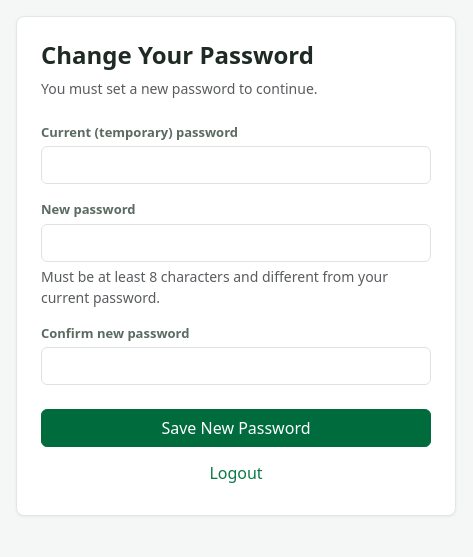
Scenario: ChangePassword (UI-02) › shows a server-side field error under Current Password (e.g. wrong current password)
Step 1. Type "WrongPass1!" into the password field labelled "Current (temporary) password" → (236, 165), box [41, 146, 431, 184]
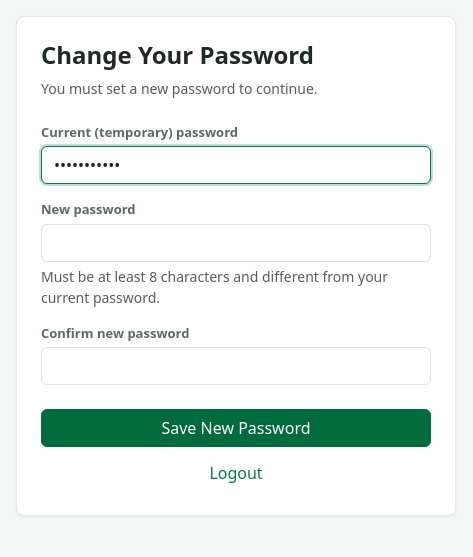
Step 2. Type "BrandNewPass1!" into the password field labelled "New password" → (236, 243), box [41, 224, 431, 262]
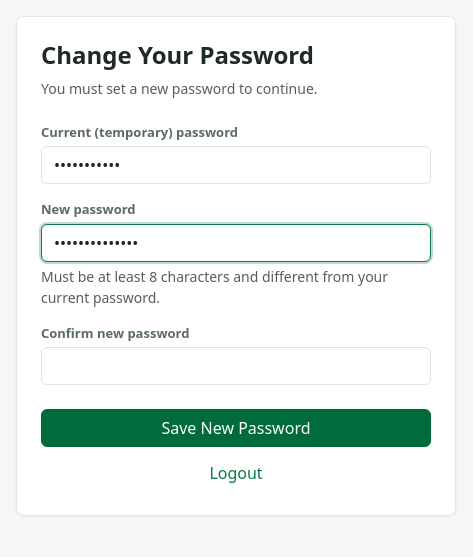
Step 3. Type "BrandNewPass1!" into the password field labelled "Confirm new password" → (236, 366), box [41, 347, 431, 385]
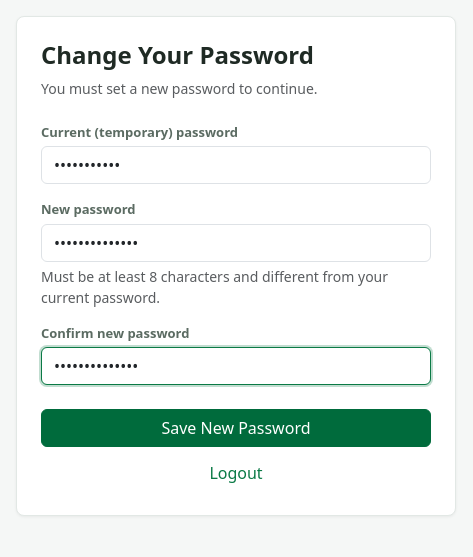
Step 4. Click the button "Save New Password" → click(236, 428), box [41, 409, 431, 447]
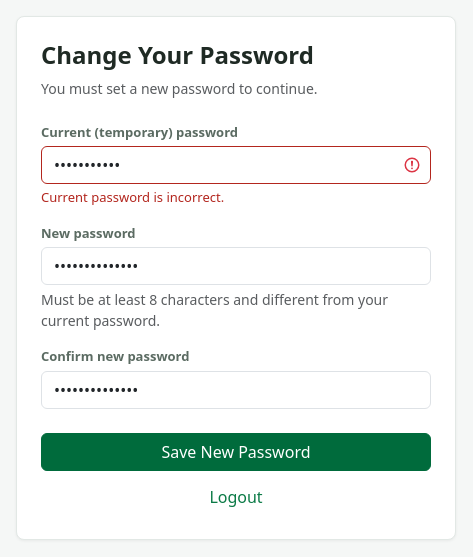
Now the text "Current password is incorrect." is shown, box [41, 188, 224, 206]
